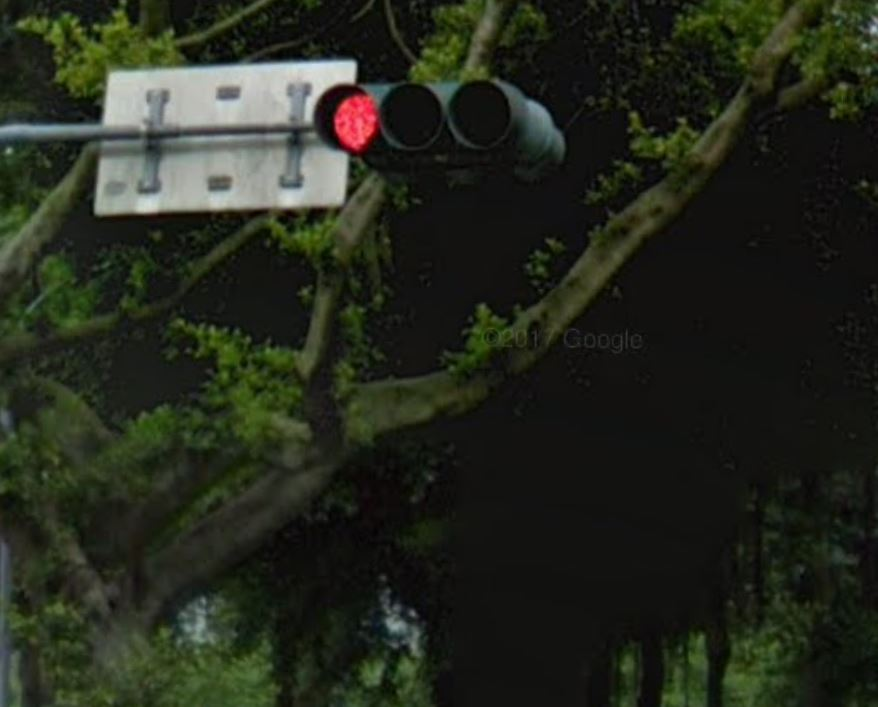Traffic_light_red: (311, 77, 535, 160)
